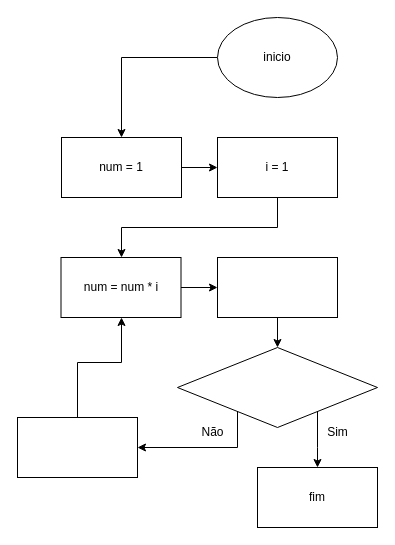
Some shapes in this 395 by 545 pixel diagram are drawn without their labels. The shapes that lost their labels are listed below. From the top down, each one's box as (x1, y1, x2, y2) in pixels, then its label:
(216, 256, 338, 318): i++
(176, 346, 378, 428): i é maior que 10?
(16, 416, 138, 478): print num
